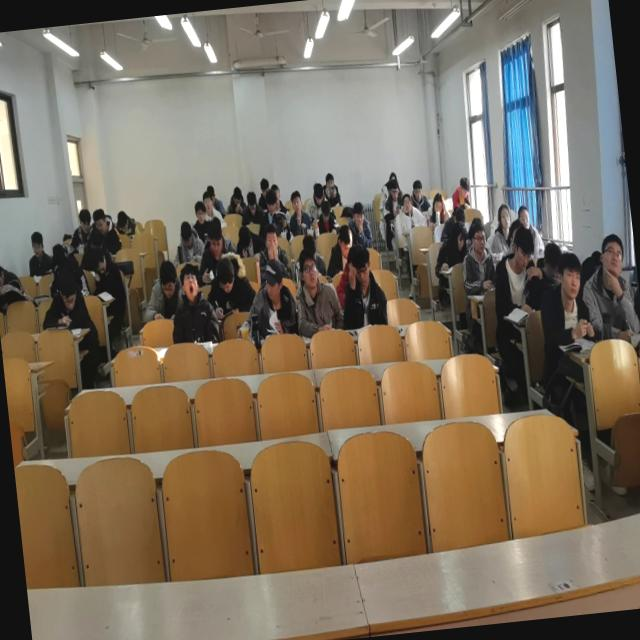bow: (232, 222, 264, 260), (0, 253, 21, 296), (112, 208, 138, 236)
down: (511, 224, 537, 272), (54, 268, 80, 314), (348, 244, 373, 286), (541, 240, 564, 282), (214, 254, 237, 296), (157, 258, 179, 300), (204, 218, 226, 256), (335, 224, 354, 258), (89, 243, 108, 274), (449, 220, 467, 252), (178, 219, 195, 250), (236, 223, 253, 253), (92, 206, 108, 236), (301, 232, 317, 262), (51, 242, 68, 269), (264, 186, 278, 216), (78, 206, 92, 235), (245, 188, 259, 216), (116, 209, 130, 234), (312, 182, 326, 206), (430, 192, 444, 215), (458, 174, 470, 198), (319, 200, 332, 222), (231, 185, 243, 208), (0, 258, 6, 287)
lookup: (556, 249, 584, 301), (597, 232, 626, 278), (296, 248, 318, 288), (178, 262, 200, 302), (468, 220, 488, 256), (30, 228, 46, 260), (495, 202, 513, 230), (262, 222, 279, 251), (350, 200, 366, 230), (192, 201, 208, 226), (289, 188, 303, 216), (516, 204, 530, 230), (200, 187, 214, 211), (411, 178, 424, 202), (388, 178, 400, 201), (400, 192, 412, 212), (324, 170, 335, 191)
sit: (576, 229, 640, 342), (534, 249, 596, 353), (487, 224, 547, 319), (334, 242, 389, 330), (290, 246, 344, 334), (245, 256, 300, 338), (164, 262, 218, 344), (202, 249, 258, 317), (37, 270, 92, 330), (457, 220, 498, 296), (138, 256, 182, 319), (254, 219, 292, 282), (429, 221, 470, 276), (193, 217, 227, 283), (85, 242, 123, 298), (322, 223, 357, 275), (487, 200, 518, 254), (90, 206, 122, 258), (170, 218, 204, 264), (255, 186, 287, 230), (346, 198, 374, 248), (24, 228, 53, 275), (65, 205, 94, 252), (396, 190, 426, 232), (286, 188, 312, 236), (379, 176, 405, 216), (424, 191, 451, 229), (190, 198, 212, 244), (302, 180, 328, 218), (200, 186, 224, 226), (448, 175, 472, 212), (238, 190, 265, 222), (314, 198, 338, 232), (408, 176, 430, 211), (320, 169, 340, 206), (225, 183, 247, 213), (206, 182, 224, 215)
